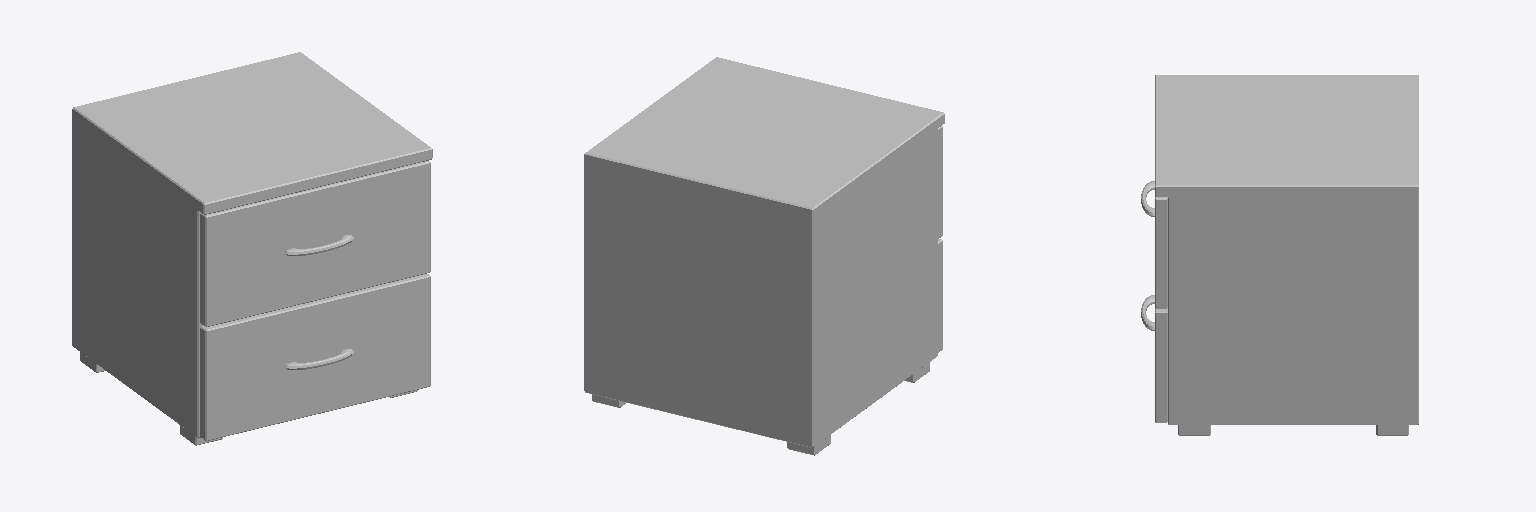
Rendered from Nightstand.obj.
The picture shows the model from 3 angles: view 1: azimuth 30°, elevation 25°; view 2: azimuth 150°, elevation 25°; view 3: azimuth 270°, elevation 25°; orthographic projection.
Visible parts, largest first — view 1: Nightstand_Cube.084; view 2: Nightstand_Cube.084; view 3: Nightstand_Cube.084.
Boxes of the visible parts, x1=… form: Nightstand_Cube.084: x1=72, y1=52, x2=432, y2=445; Nightstand_Cube.084: x1=584, y1=57, x2=944, y2=455; Nightstand_Cube.084: x1=1141, y1=75, x2=1418, y2=435.
Size of the model in its own units: 0.4 by 0.42 by 0.421.